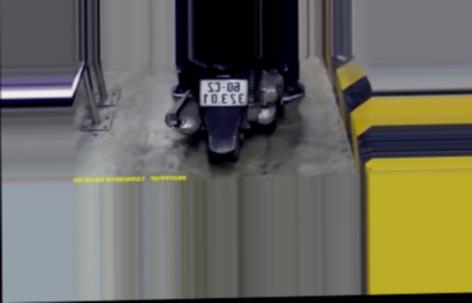License_Plate: (199, 76, 251, 111)
